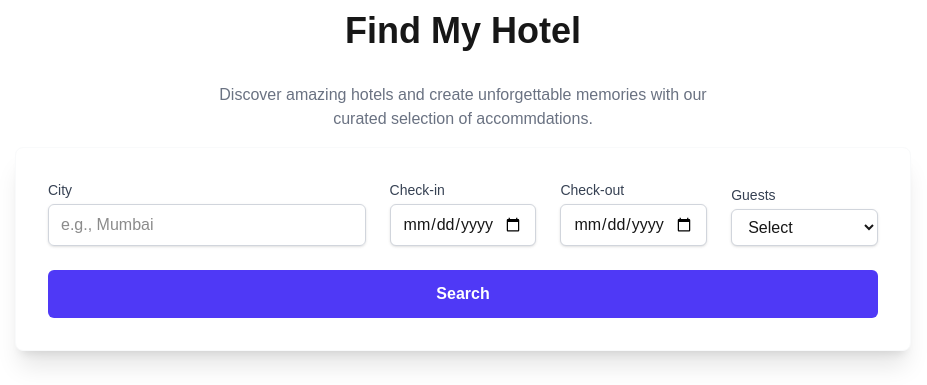
Test: Home Page › allows a user to select a city from autocomplete suggestions
The width and height of the screenshot is (927, 385).
Note: Simulate user typing
Step 1. Type "Del" into the field labelled "City" → (207, 225), box [48, 204, 366, 246]
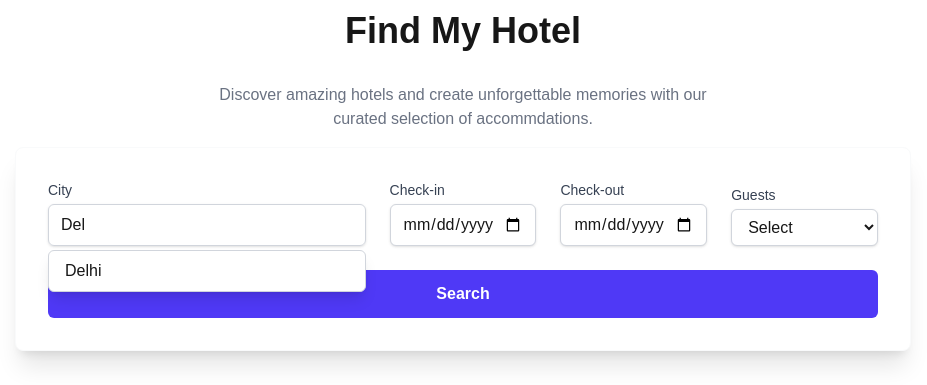
Note: Find and click the suggestion (assuming it's a button or listitem)
Step 2. Click the option "Delhi" → (83, 270), box [65, 262, 102, 279]
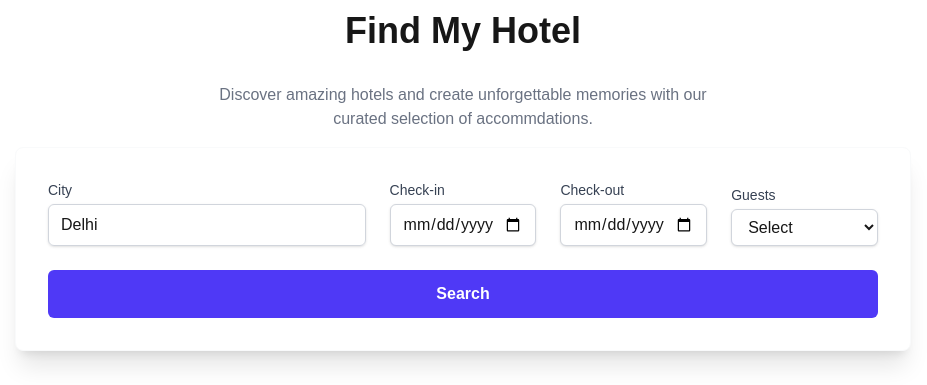
Expected: the field labelled "City" holds "Delhi", [48, 204, 366, 246]
